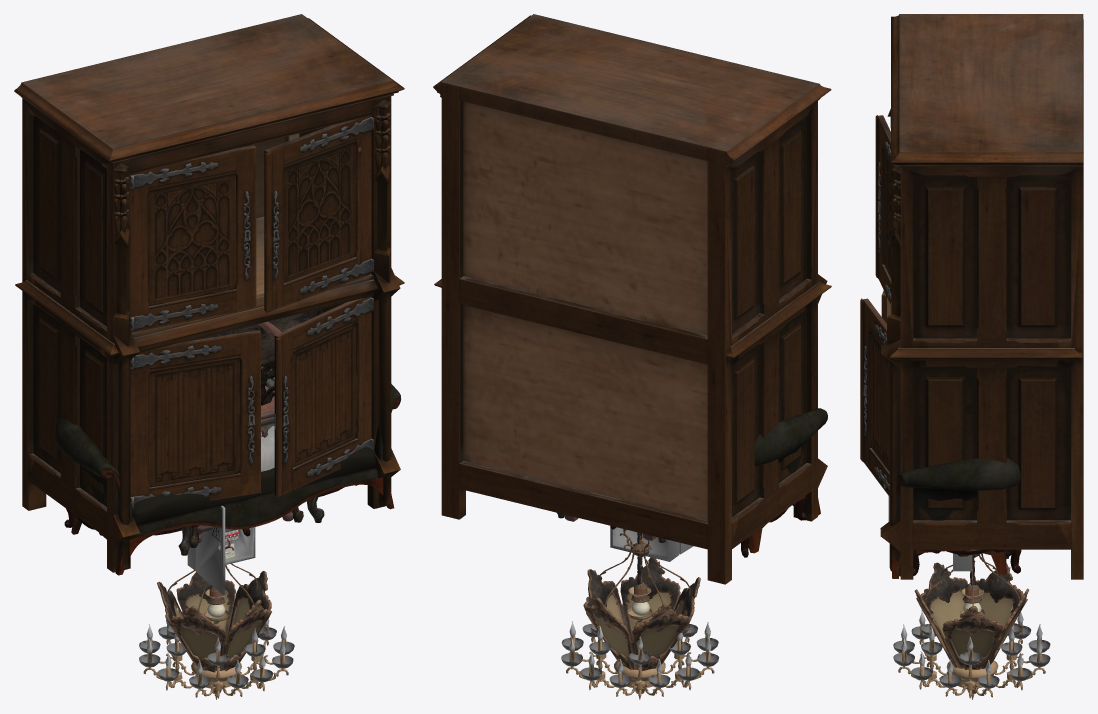
The model's file is conservatory-acquisitions.glb.
The picture shows the model from 3 angles, left to right: view 1: azimuth 30°, elevation 25°; view 2: azimuth 150°, elevation 25°; view 3: azimuth 270°, elevation 25°; orthographic projection. The views are drawn at different scales.
Parts seen in each view (by area): view 1: gothic_cabinet_01, sofa_02, lantern_chandelier_01, chandelier_03, power_box_01, classic_console_01, arm_chair_01, wooden_chair_01; view 2: gothic_cabinet_01, lantern_chandelier_01, chandelier_03, sofa_02, power_box_01; view 3: gothic_cabinet_01, lantern_chandelier_01, chandelier_03, sofa_02, sofa_01, power_box_01.
Boxes of the visible parts, bbox=[...] form: gothic_cabinet_01: bbox=[14, 14, 404, 572]; sofa_02: bbox=[54, 384, 400, 575]; lantern_chandelier_01: bbox=[157, 539, 271, 672]; chandelier_03: bbox=[139, 589, 294, 699]; power_box_01: bbox=[187, 505, 255, 595]; classic_console_01: bbox=[188, 307, 326, 405]; arm_chair_01: bbox=[178, 366, 324, 555]; wooden_chair_01: bbox=[197, 321, 293, 543]; gothic_cabinet_01: bbox=[433, 14, 831, 584]; lantern_chandelier_01: bbox=[583, 529, 700, 671]; chandelier_03: bbox=[561, 532, 719, 699]; sofa_02: bbox=[748, 408, 827, 553]; power_box_01: bbox=[610, 527, 693, 561]; gothic_cabinet_01: bbox=[860, 14, 1083, 579]; lantern_chandelier_01: bbox=[914, 553, 1029, 669]; chandelier_03: bbox=[893, 558, 1050, 699]; sofa_02: bbox=[892, 458, 1020, 578]; sofa_01: bbox=[913, 549, 1021, 575]; power_box_01: bbox=[888, 496, 971, 571].
Bounding box in the file's own units: 1.81 × 3.4 × 1.12.
Materials: 17 (16 with a texture image).
